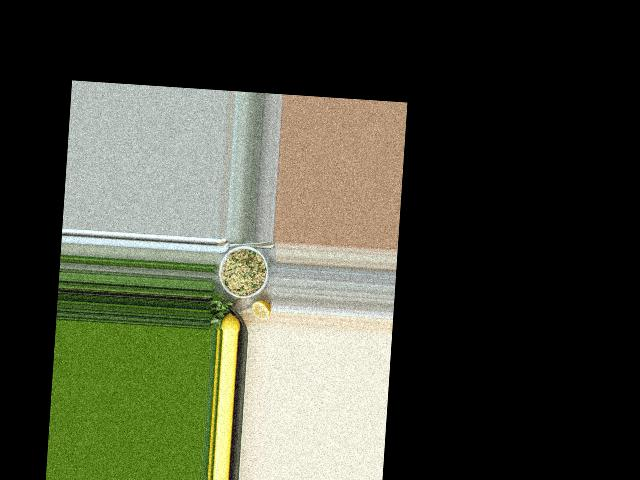lemon: (221, 313, 238, 332)
